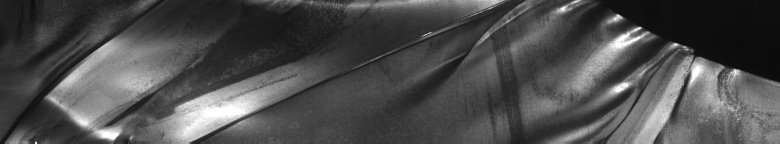ke: (8, 0, 732, 144)
